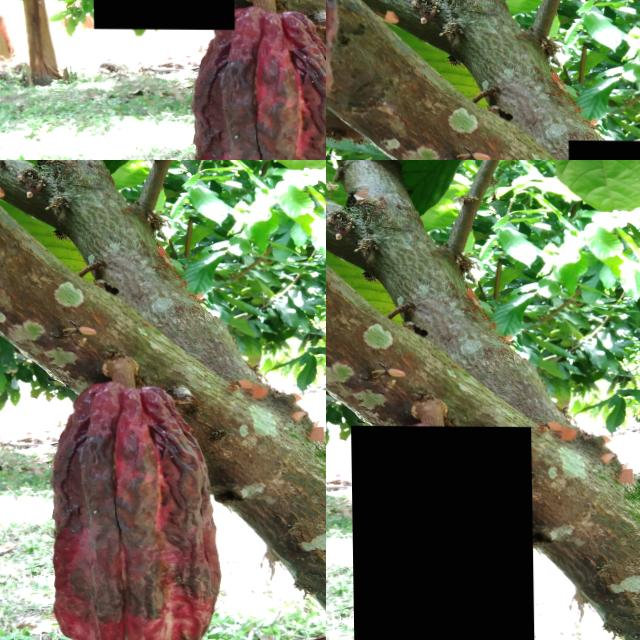Fitoftora: (350, 425, 533, 640), (0, 366, 84, 543), (326, 0, 418, 160)
